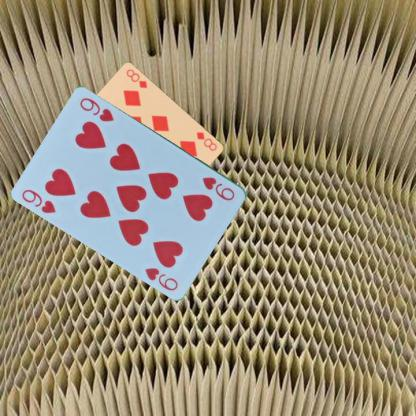8d: (194, 129, 219, 152)
9h: (20, 186, 57, 215), (200, 174, 236, 202)
